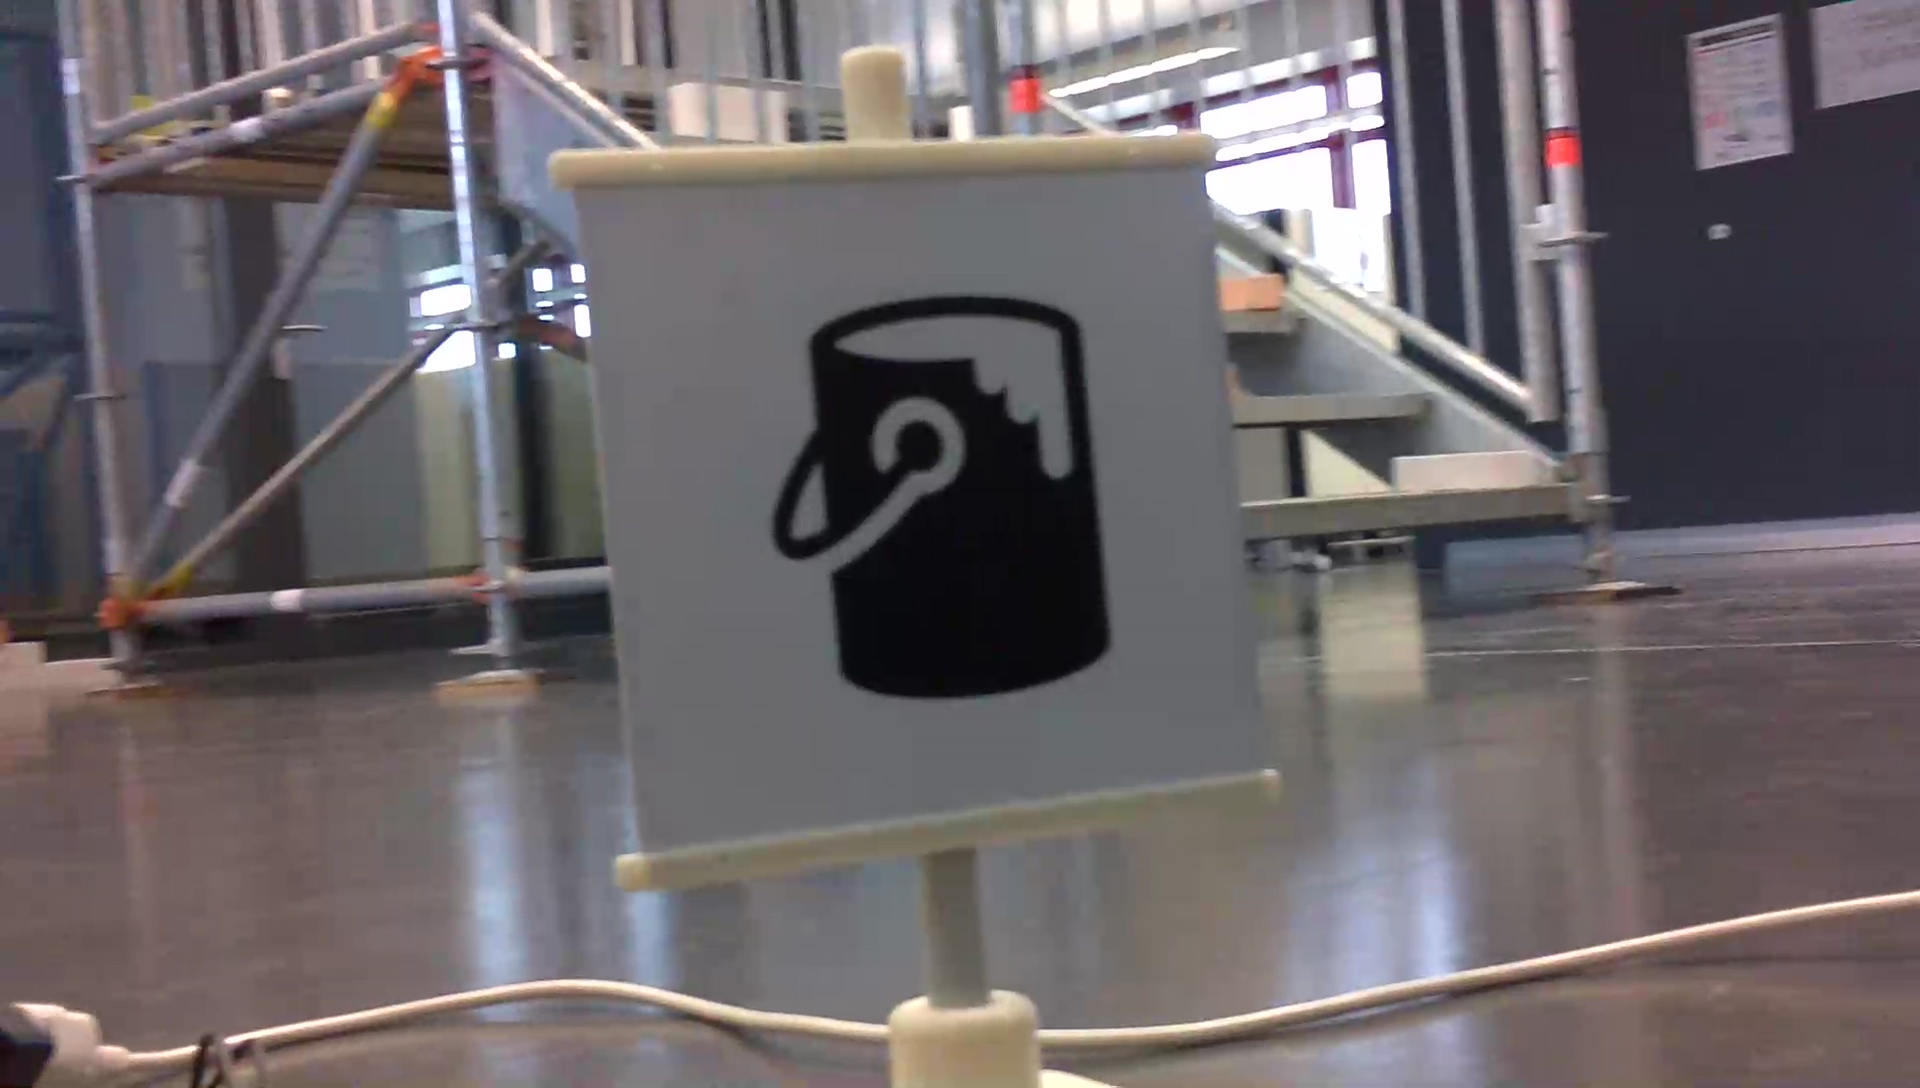brick: (1396, 450, 1530, 488), (1217, 276, 1283, 309)
bucket: (760, 285, 1122, 719)
